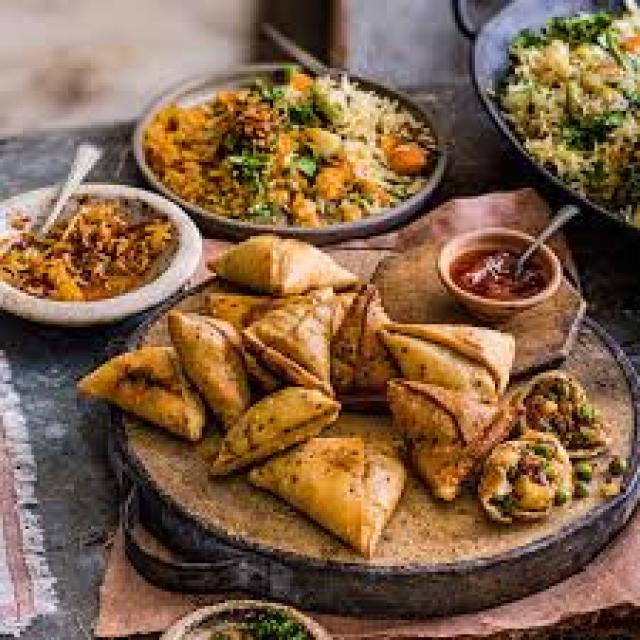SAMOSA: (253, 435, 404, 555), (390, 370, 515, 498), (242, 290, 353, 393), (213, 387, 338, 472), (82, 347, 202, 435), (381, 324, 512, 398), (171, 313, 247, 424), (216, 236, 356, 293), (333, 284, 395, 390)
